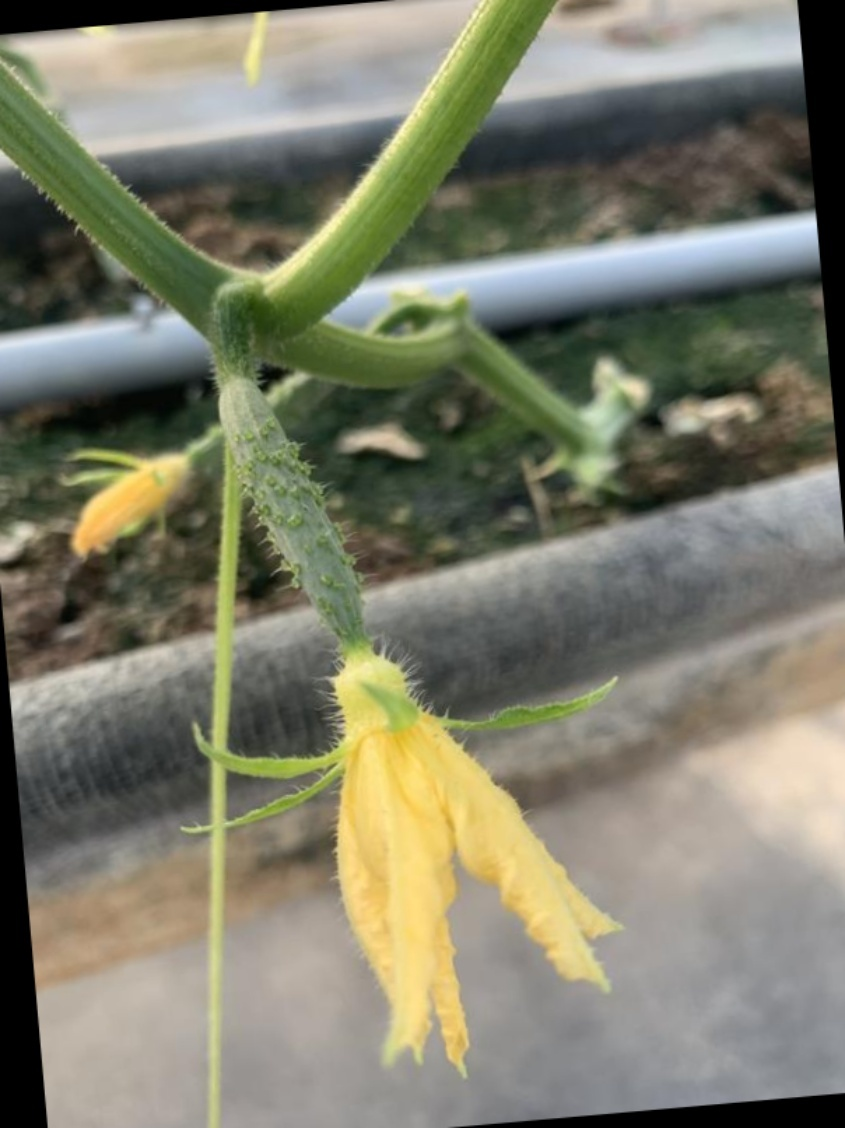bear: (132, 304, 672, 1071)
